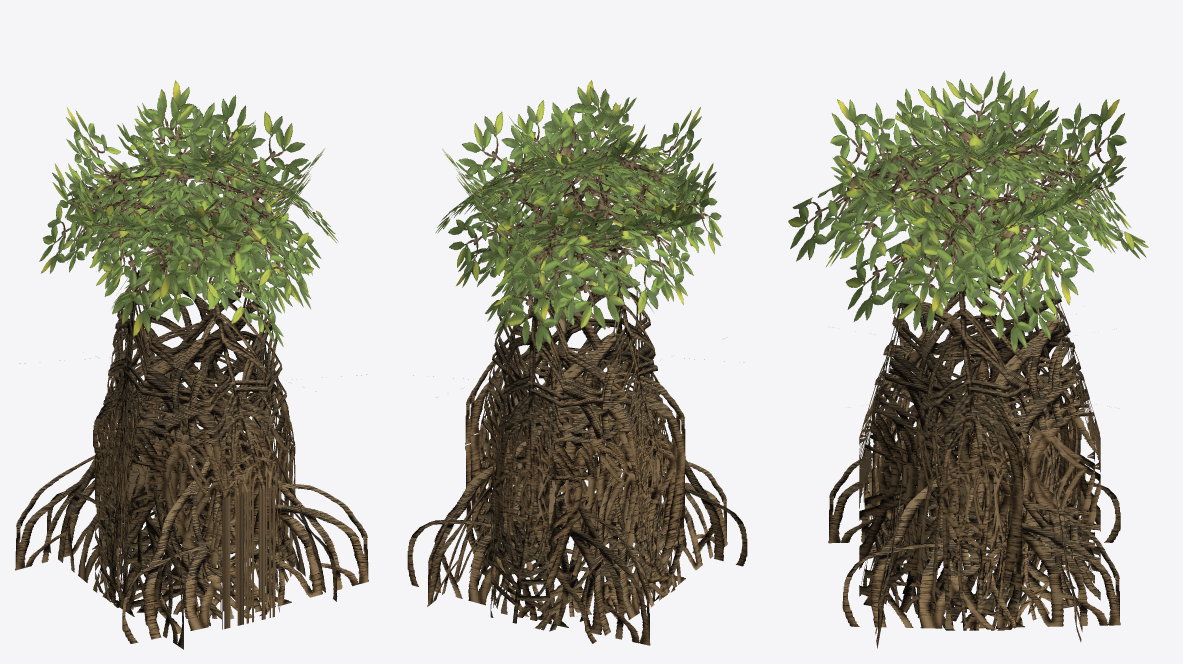
Rendered from flora_tree_mangrove_v2.glb.
3 views of the same model, side by side, from view 1: azimuth 30°, elevation 25°; view 2: azimuth 150°, elevation 25°; view 3: azimuth 270°, elevation 25° (orthographic). The views are drawn at different scales.
Parts seen in each view (by area): view 1: flora_tree_mangrove_v2_part0, flora_tree_mangrove_v2_part1; view 2: flora_tree_mangrove_v2_part0, flora_tree_mangrove_v2_part1; view 3: flora_tree_mangrove_v2_part0, flora_tree_mangrove_v2_part1.
Boxes of the visible parts, bbox=[...] form: flora_tree_mangrove_v2_part0: bbox=[15, 258, 368, 649]; flora_tree_mangrove_v2_part1: bbox=[39, 80, 338, 346]; flora_tree_mangrove_v2_part0: bbox=[407, 246, 747, 645]; flora_tree_mangrove_v2_part1: bbox=[435, 80, 722, 352]; flora_tree_mangrove_v2_part0: bbox=[828, 250, 1120, 648]; flora_tree_mangrove_v2_part1: bbox=[788, 71, 1148, 351].
Size of the model in its own units: 11.63 by 18.07 by 11.78.
Materials: 2 (2 with a texture image).
